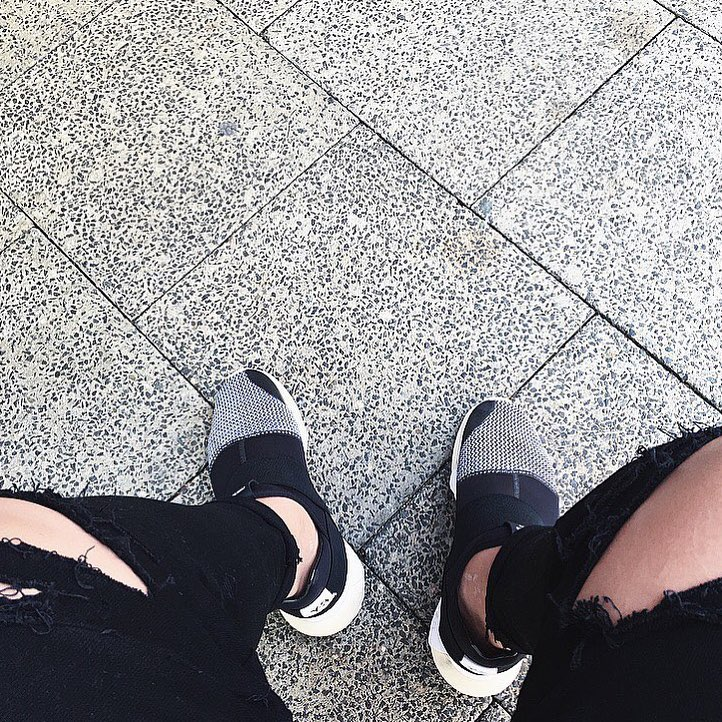sneaker: (179, 355, 385, 651), (411, 381, 576, 716)
